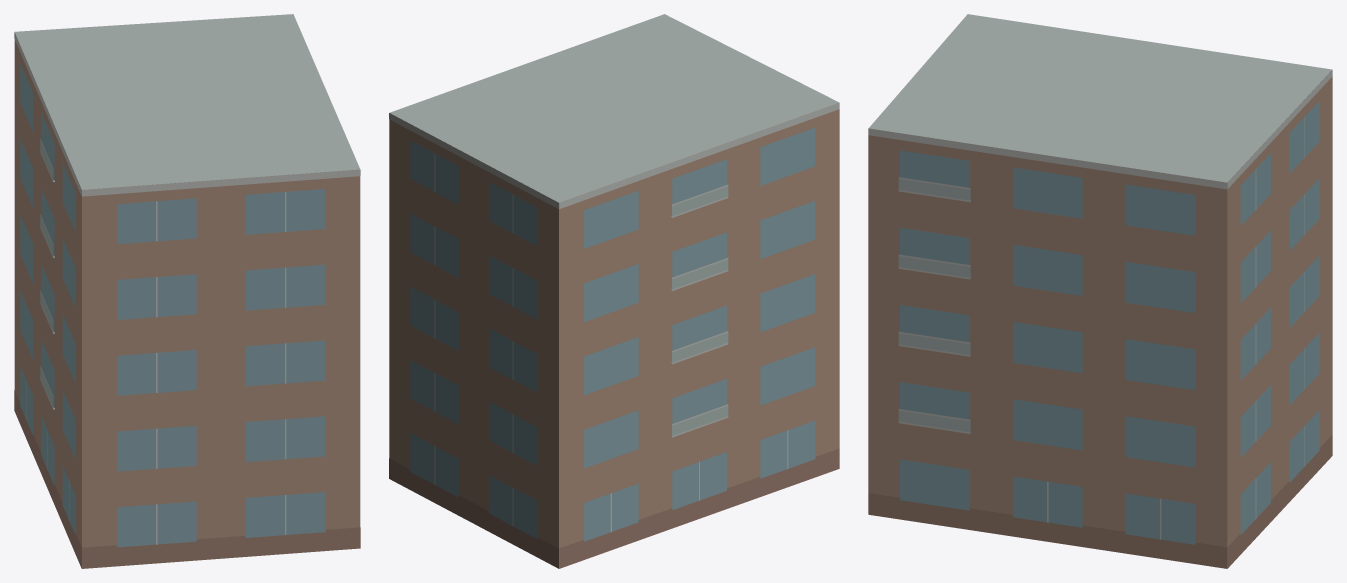
File: survey-upis-32888502.glb
The picture shows the model from 3 angles, left to right: view 1: azimuth 30°, elevation 25°; view 2: azimuth 150°, elevation 25°; view 3: azimuth 270°, elevation 25°; orthographic projection. The views are drawn at different scales.
Parts seen in each view (by area): view 1: survey-upis-32888502.tmp; view 2: survey-upis-32888502.tmp; view 3: survey-upis-32888502.tmp.
Part boxes in pixels (x1,y1,x2,y2): survey-upis-32888502.tmp: (14,14,360,568); survey-upis-32888502.tmp: (389,14,839,568); survey-upis-32888502.tmp: (868,14,1332,568).
Bounding box in the file's own units: 12.93 × 13.8 × 15.04.
